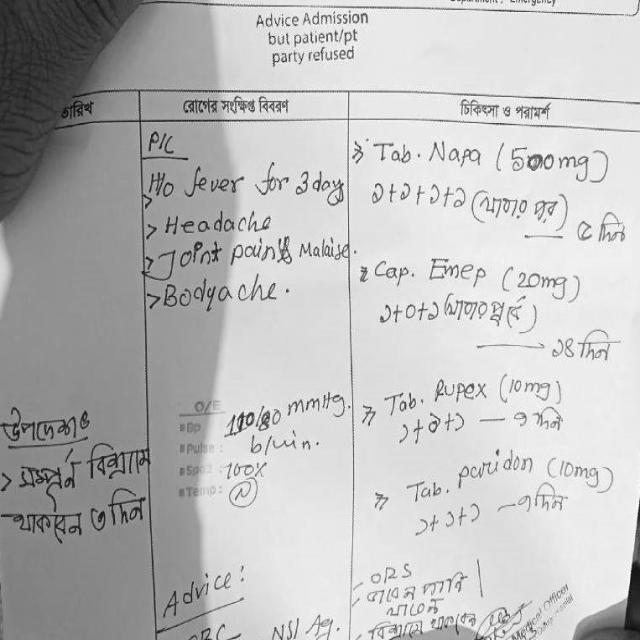medicine: (453, 446, 538, 494), (426, 370, 496, 410), (424, 132, 486, 174), (426, 248, 489, 288)
